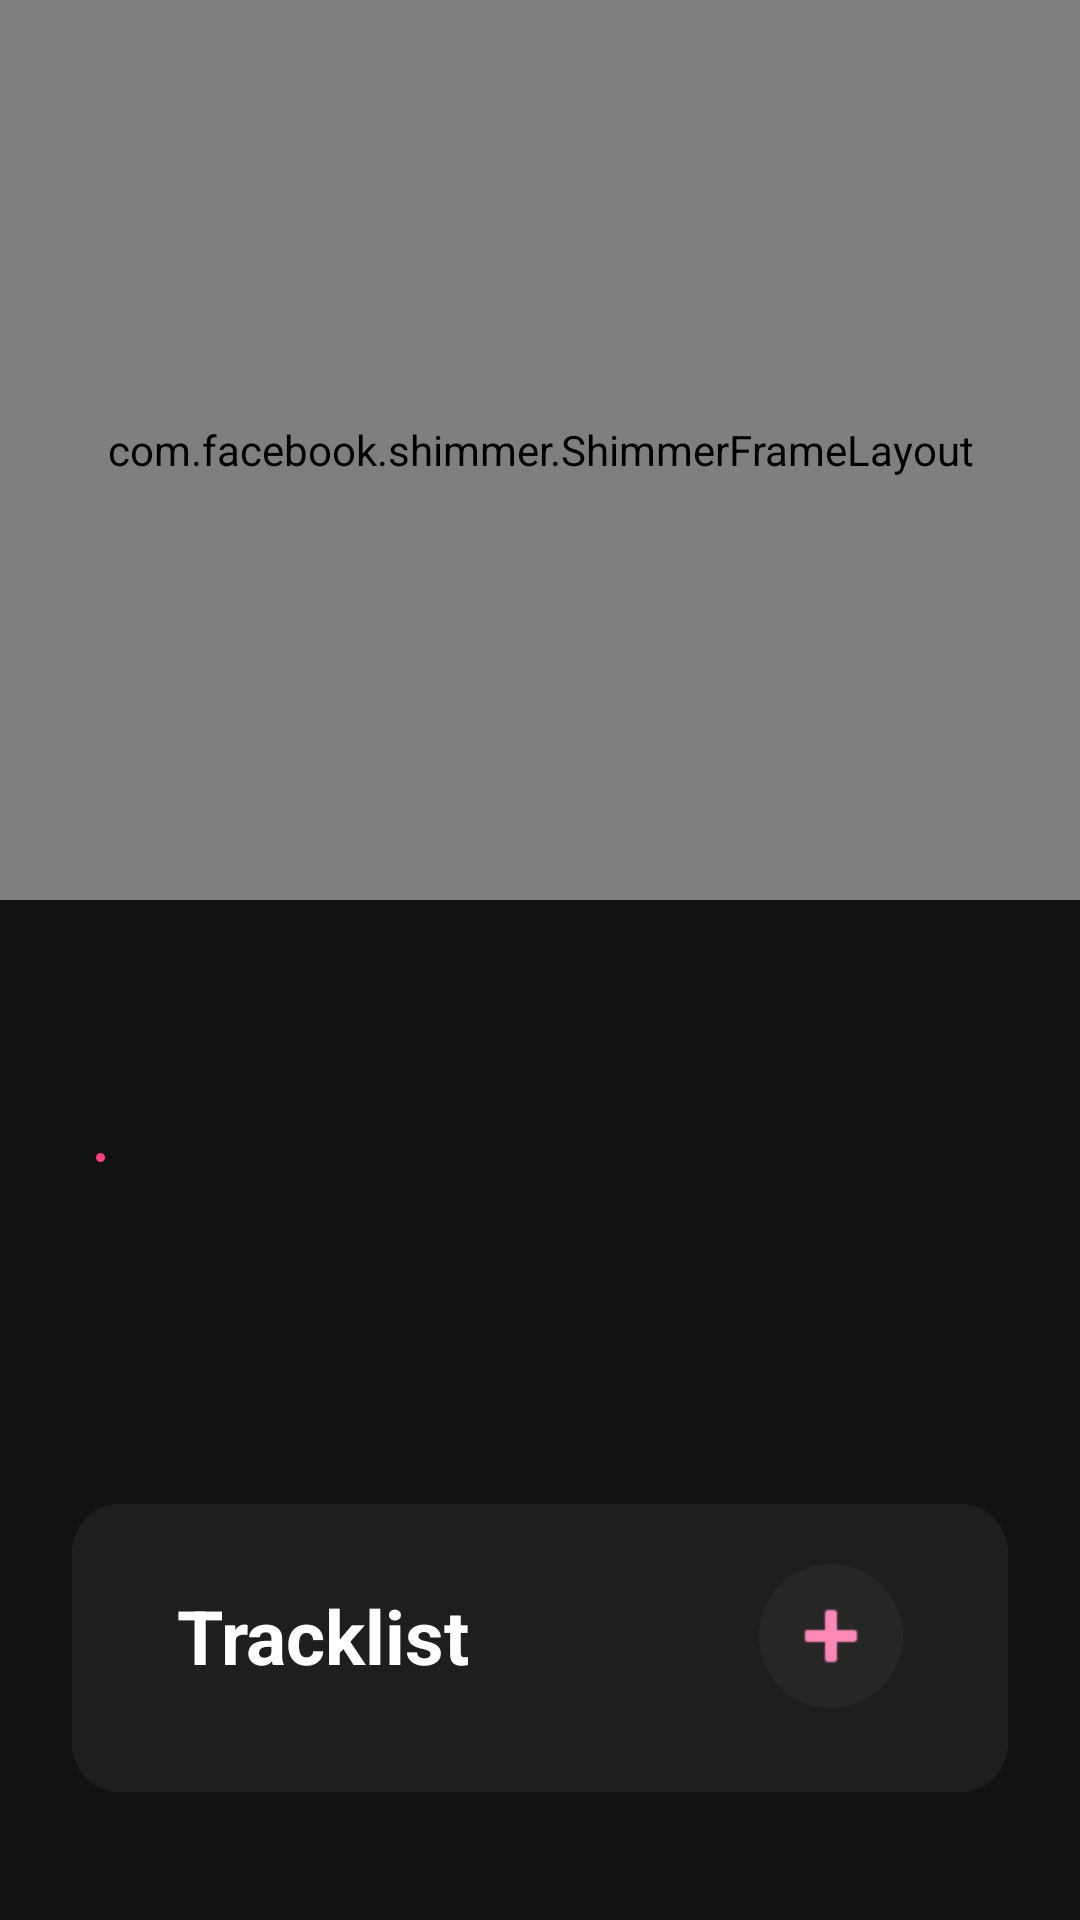

Screen size 1080px x 1920px. Icon name, then its center in pixels as [x,y]:
Asociar tracks: [831,1636]
